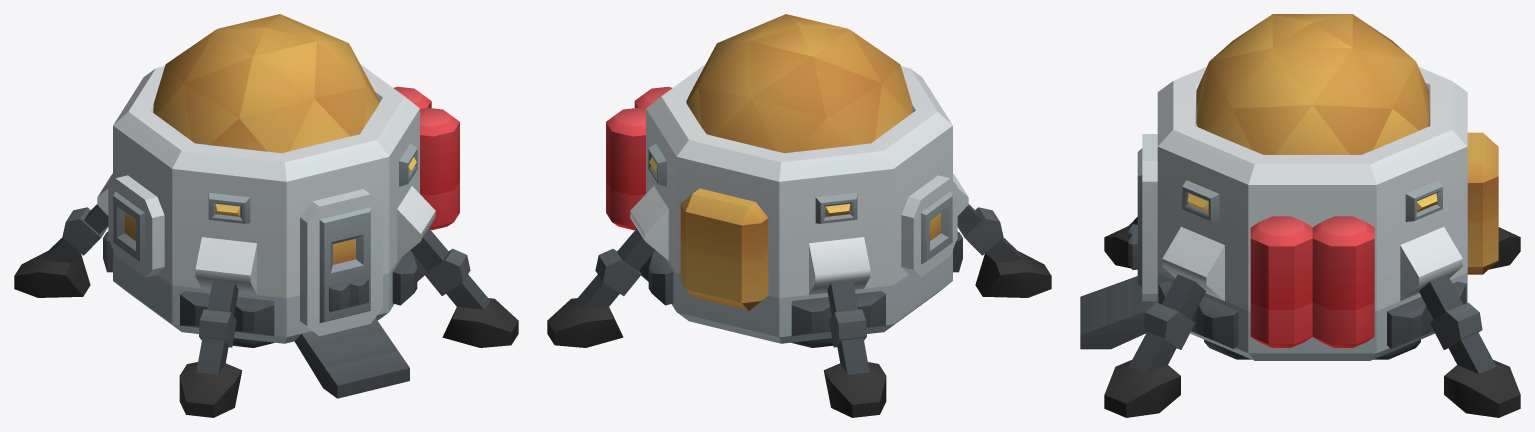
Rendered from lander_B.glb.
The picture shows the model from 3 angles, left to right: view 1: azimuth 30°, elevation 25°; view 2: azimuth 150°, elevation 25°; view 3: azimuth 270°, elevation 25°; orthographic projection. The views are drawn at different scales.
Visible parts, largest first — view 1: lander_B_Cylinder.2684; view 2: lander_B_Cylinder.2684; view 3: lander_B_Cylinder.2684.
Boxes of the visible parts, x1=… form: lander_B_Cylinder.2684: x1=14, y1=14, x2=518, y2=417; lander_B_Cylinder.2684: x1=547, y1=14, x2=1051, y2=417; lander_B_Cylinder.2684: x1=1080, y1=14, x2=1520, y2=417.
Size of the model in its own units: 1.37 by 1.1 by 1.42.
1 material, 1 textured.
